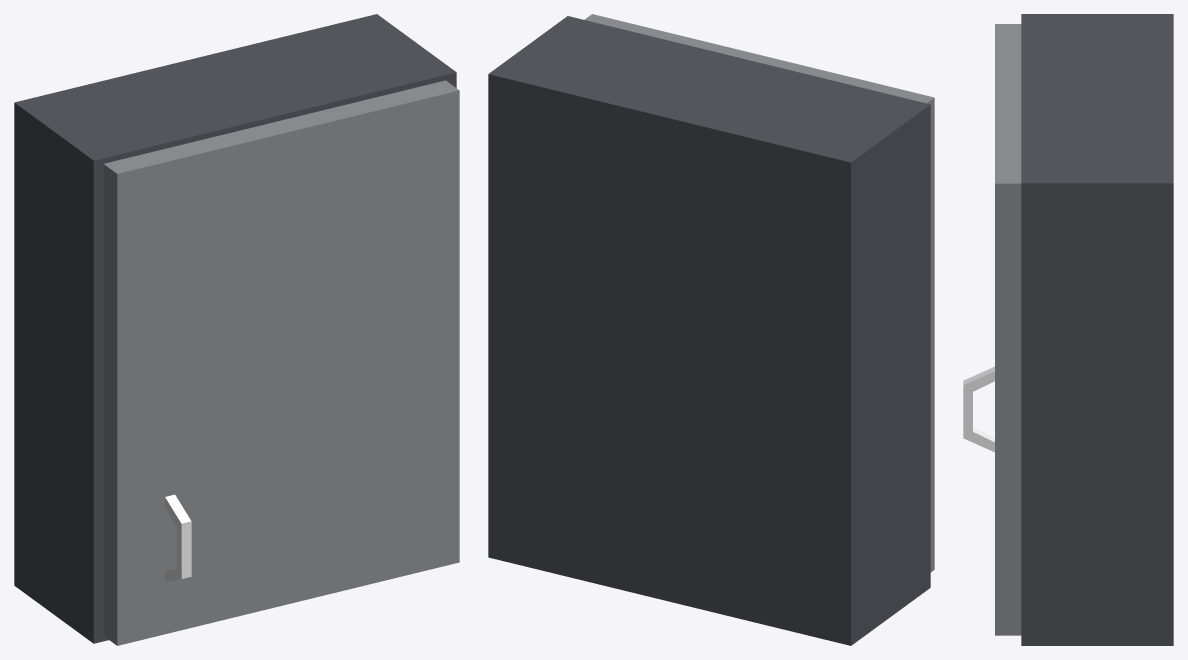
File: Cupboard_6_2.fbx
The picture shows the model from 3 angles, left to right: view 1: azimuth 30°, elevation 25°; view 2: azimuth 150°, elevation 25°; view 3: azimuth 270°, elevation 25°; orthographic projection. The views are drawn at different scales.
Parts seen in each view (by area): view 1: polySurface1677; view 2: polySurface1677; view 3: polySurface1677.
Part boxes in pixels (left/top/right/bottom): polySurface1677: left=14, top=14, right=459, bottom=645; polySurface1677: left=488, top=14, right=934, bottom=645; polySurface1677: left=963, top=14, right=1173, bottom=645.
Bounding box in the file's own units: 0.918 × 1.17 × 0.4813.
1 material, 1 textured.
